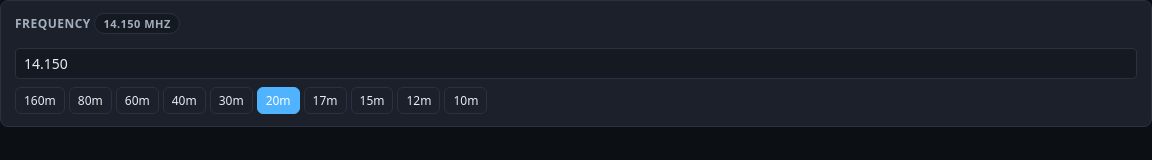
it: FrequencyControl › ignores invalid number input
Replace the text in the number field named "Frequency in MHz" with "abc" at [576, 64], box [15,48,1137,79]
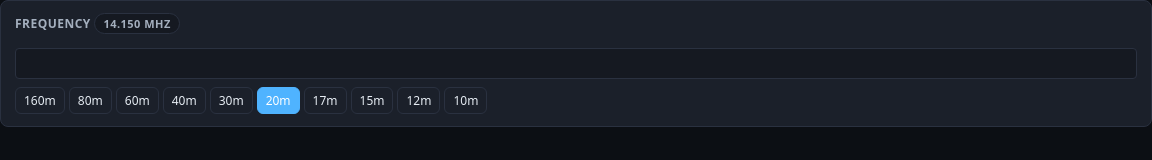
Expected: the number field named "Frequency in MHz" is empty
Leave the number field named "Frequency in MHz", box [15,48,1137,79]
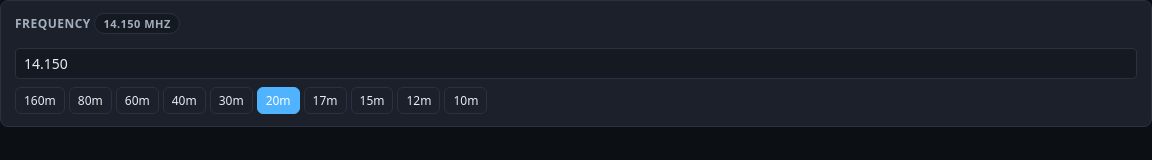
Expected: the number field named "Frequency in MHz" holds "14.150", [15,48,1137,79]
